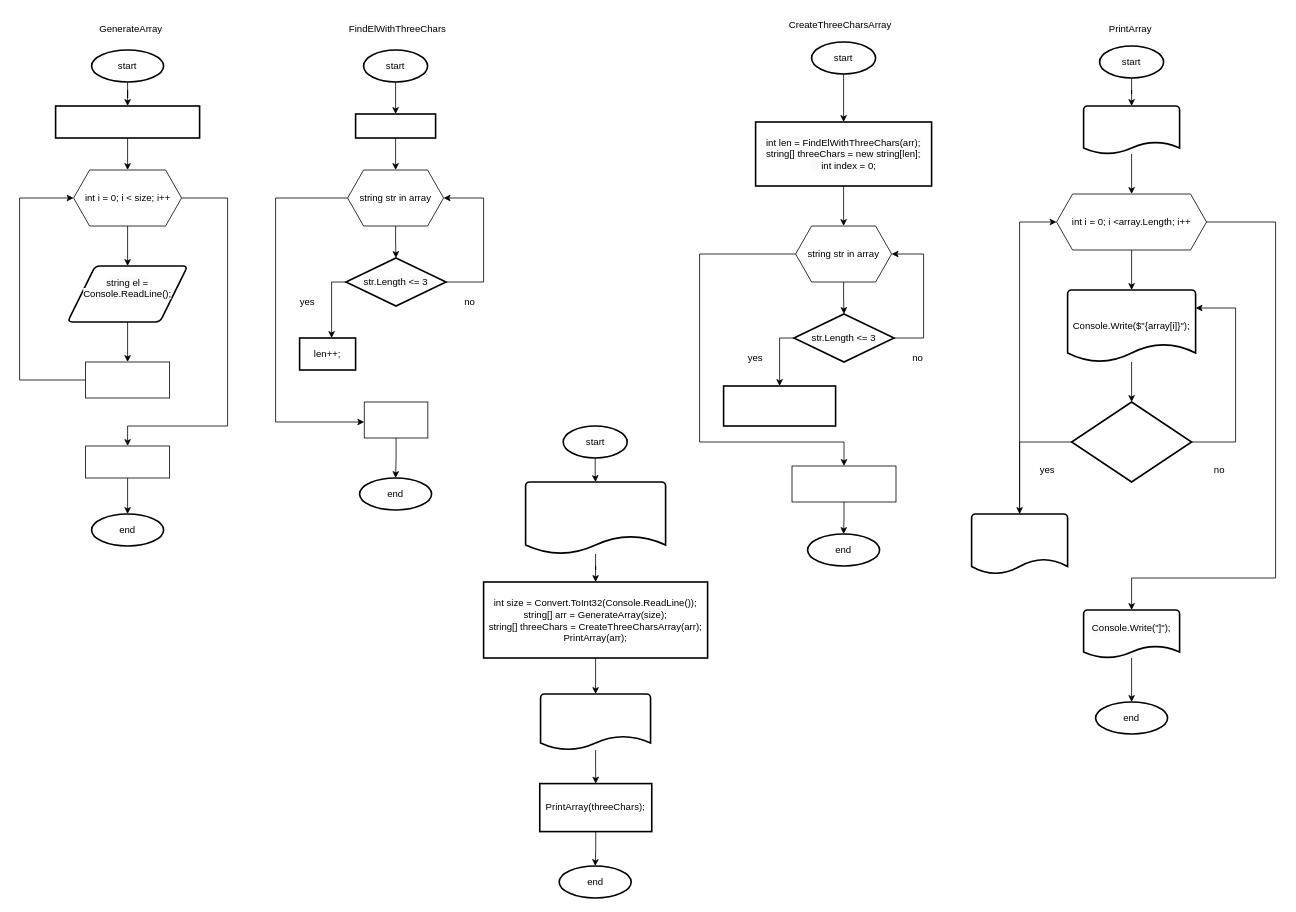
Image size: 1296x912. Some labels were removed from this diagram. The shapes that lost their labels are listed below. From the top down, each one's centre as x and y in pixels, then its label:
pixel 127 121: string[] array = new string[size];
pixel 395 125: int len = 0;
pixel 1131 129: Console.Write("[");
pixel 127 379: array[i] = el;
pixel 395 419: return len;
pixel 779 405: threeChars[index] = str; index++;
pixel 127 461: return array;
pixel 1131 441: i != array.Length - 1
pixel 843 483: return threeChars;
pixel 595 517: Console.Write("How many elements in array? ");
pixel 1019 543: Console.Write(",");
pixel 595 721: Console.Write(" -> ");
